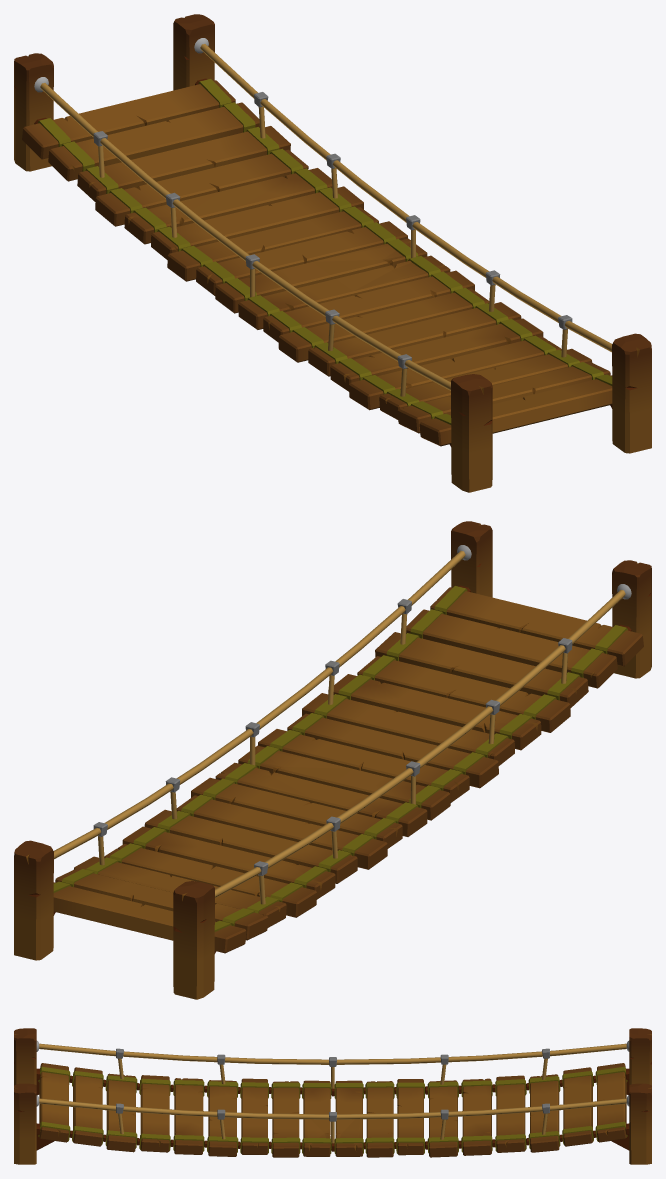
The model's file is Bridge04.fbx.
3 views of the same model, one above another, from view 1: azimuth 30°, elevation 25°; view 2: azimuth 150°, elevation 25°; view 3: azimuth 270°, elevation 25° (orthographic). The views are drawn at different scales.
Visible parts, largest first — view 1: LOD0; view 2: LOD0; view 3: LOD0.
Part boxes in pixels (<box>): LOD0: <box>14,14,651,492</box>; LOD0: <box>14,521,651,999</box>; LOD0: <box>14,1028,651,1164</box>.
Size of what is drawn, in the model's own units: 639 by 2485 by 310.
